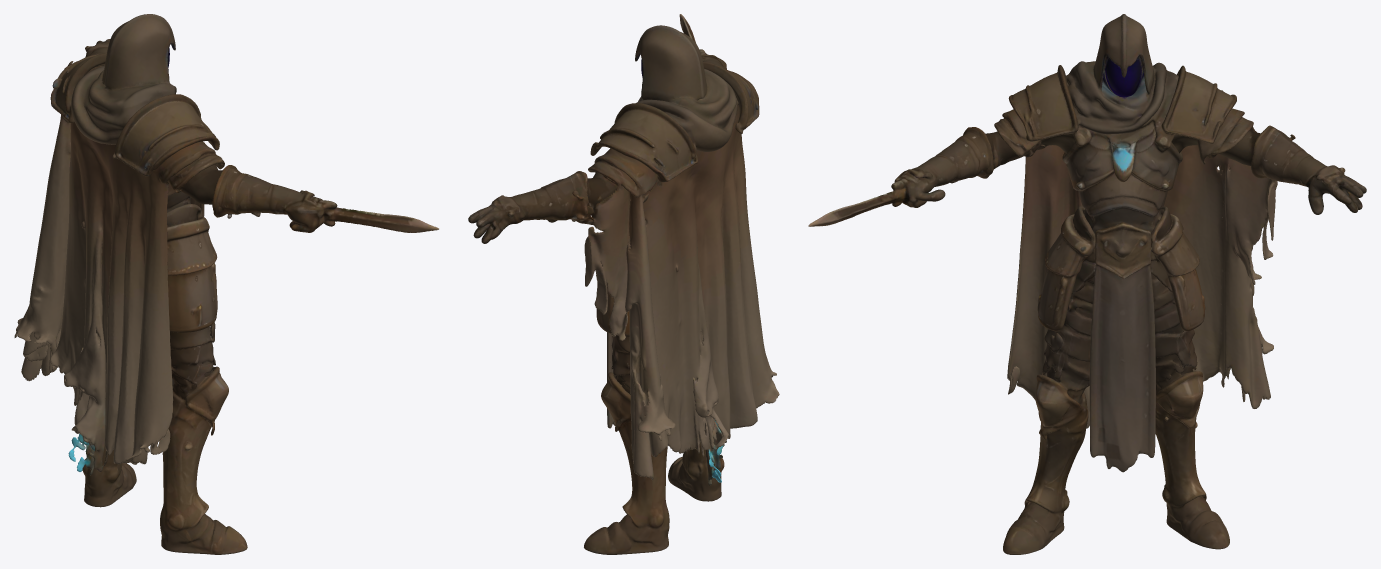
File: عدو_مطارد_الضباب.glb
3 renders of one model, left to right at view 1: azimuth 30°, elevation 25°; view 2: azimuth 150°, elevation 25°; view 3: azimuth 270°, elevation 25°, orthographic. The views are drawn at different scales.
Visible parts, largest first — view 1: tripo_node_7fe79577-9484-4878-b609-7cee637b77a8; view 2: tripo_node_7fe79577-9484-4878-b609-7cee637b77a8; view 3: tripo_node_7fe79577-9484-4878-b609-7cee637b77a8.
Part boxes in pixels (x1,y1,x2,y2): tripo_node_7fe79577-9484-4878-b609-7cee637b77a8: (14, 14, 438, 554); tripo_node_7fe79577-9484-4878-b609-7cee637b77a8: (468, 14, 779, 554); tripo_node_7fe79577-9484-4878-b609-7cee637b77a8: (808, 14, 1366, 554).
Bounding box in the file's own units: 0.4318 × 1 × 0.9853.
1 material, 1 textured.
